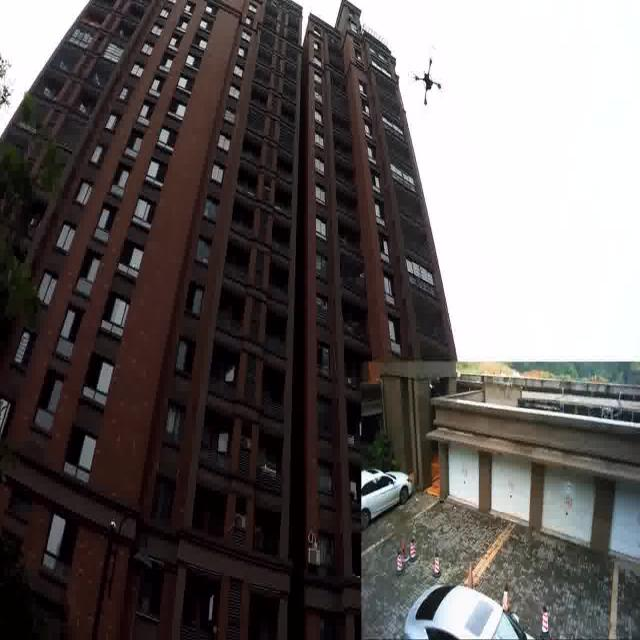drone: (410, 55, 442, 108)
